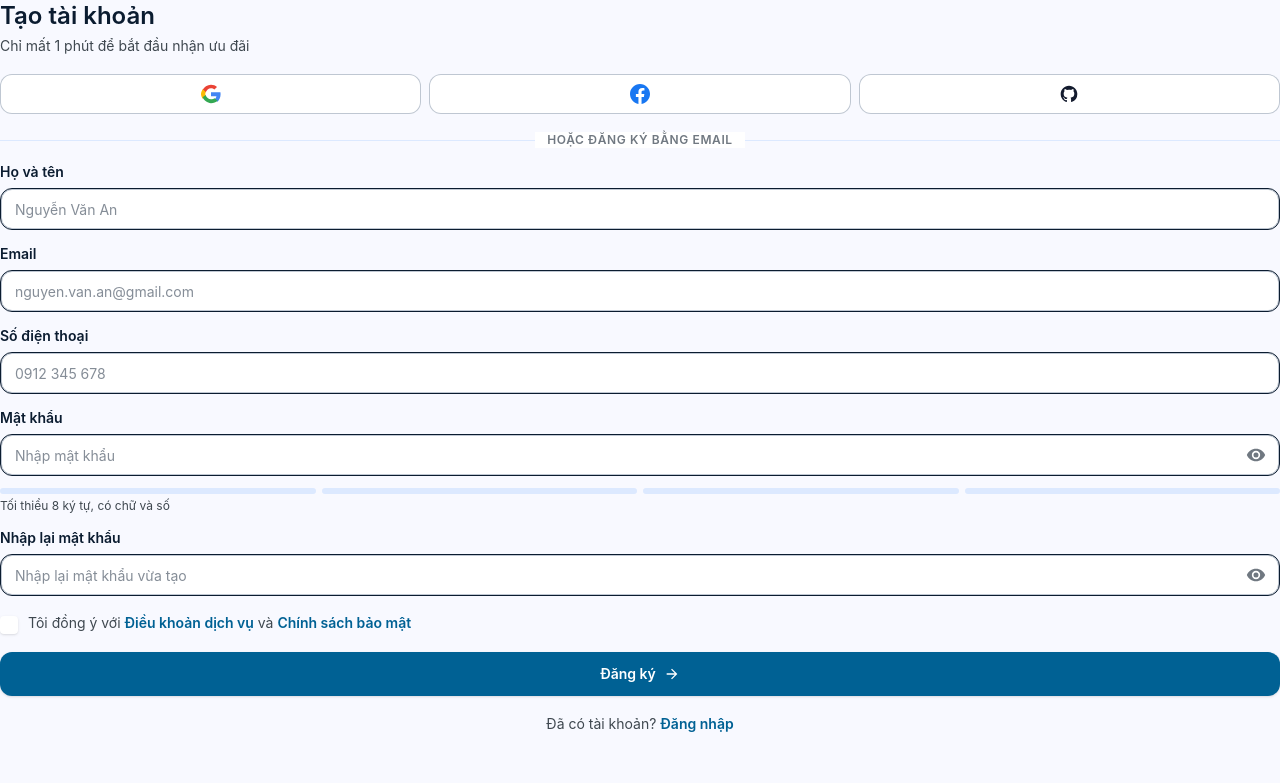
it: RegisterForm › shows validation error for empty fullName on submit
Click the button with test id "register-submit": (640, 674) [0, 652, 1279, 696]
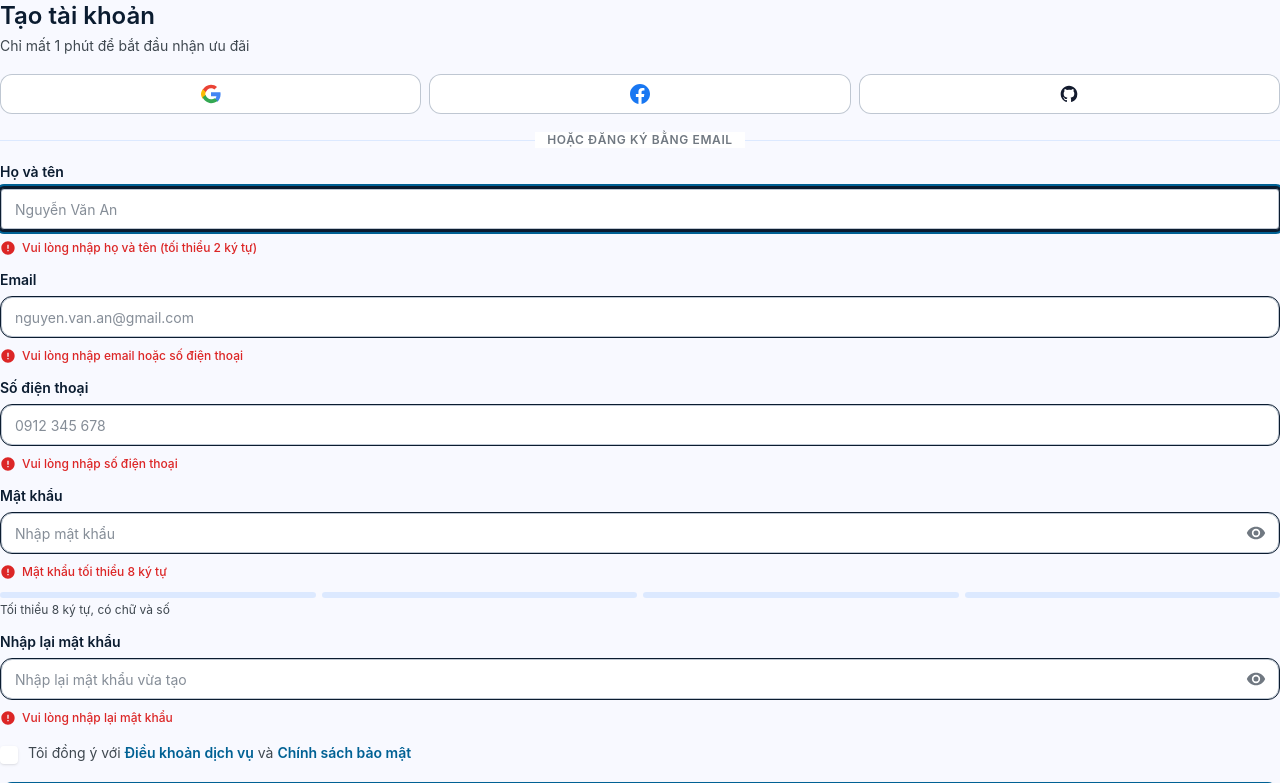
Result: the text "Vui lòng nhập họ và tên (tối thiểu 2 ký tự)" is shown at [22, 240, 257, 256]
